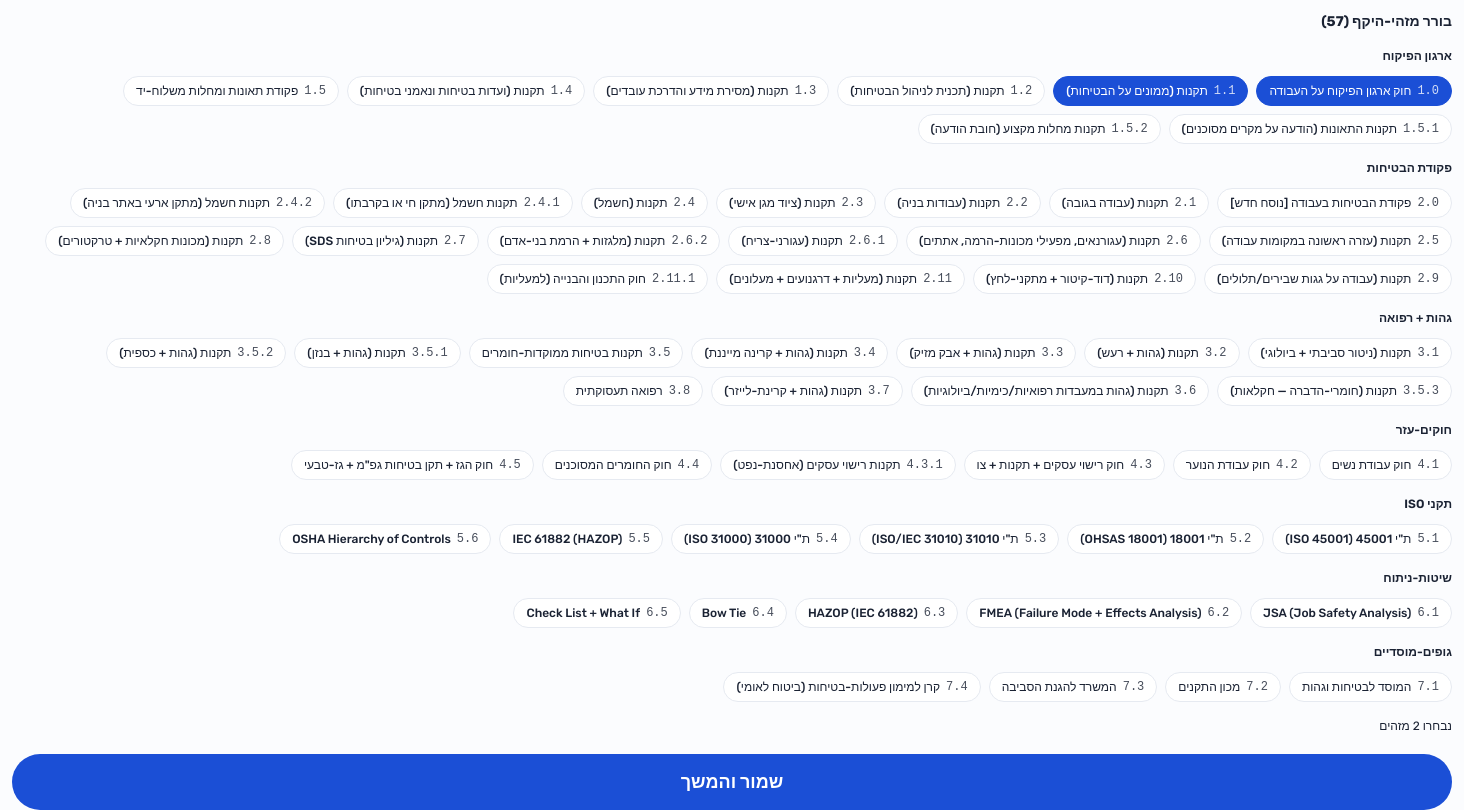
QuestionTagger › אחרי תיוג כל התור — מצב "סיימת את התור"
(page scrolled)
Click the button with test id "save-next-button": [732, 782] box [12,754,1452,809]
(page scrolled)
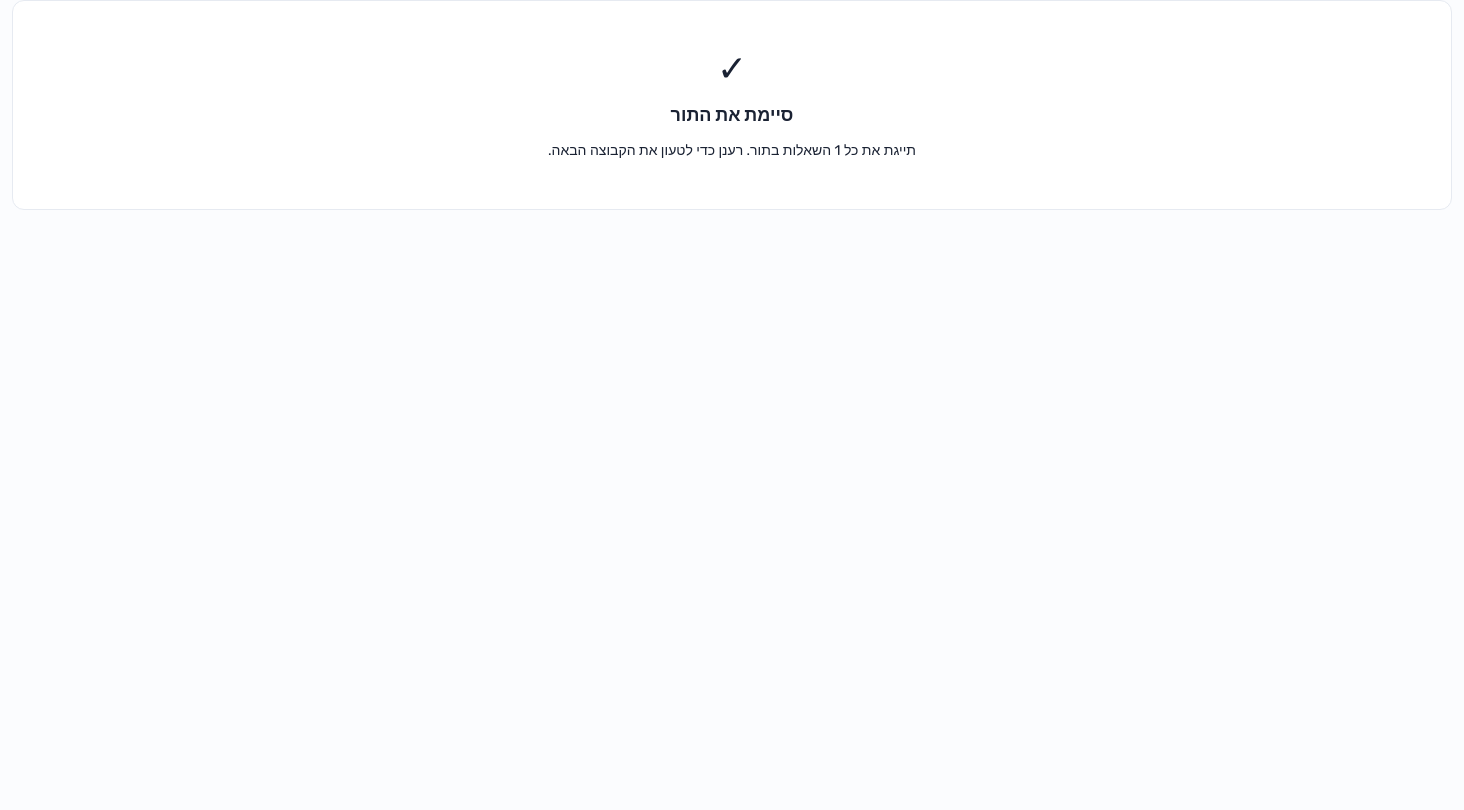
Result: the message "✓ סיימת את התור תייגת את כל 1 השאלות בתור. רענן כדי לטעון את הקבוצה הבאה." is shown at [12,0,1452,210]
